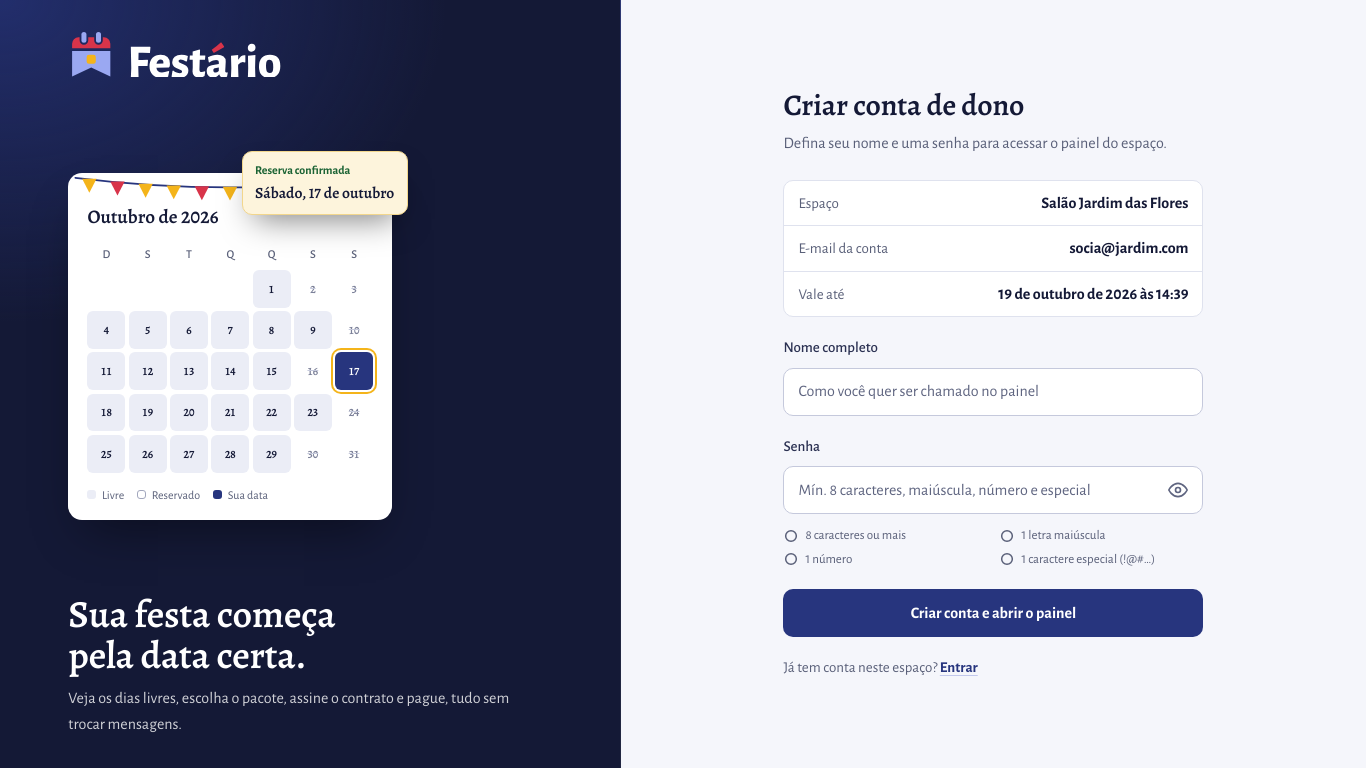
Test: InviteAccept - aceite › switches to the expired state when the API says INVITE_EXPIRED
In the field labelled "Nome completo": coordinates (993, 392) [783,368,1203,416], type "Sócia Nova"
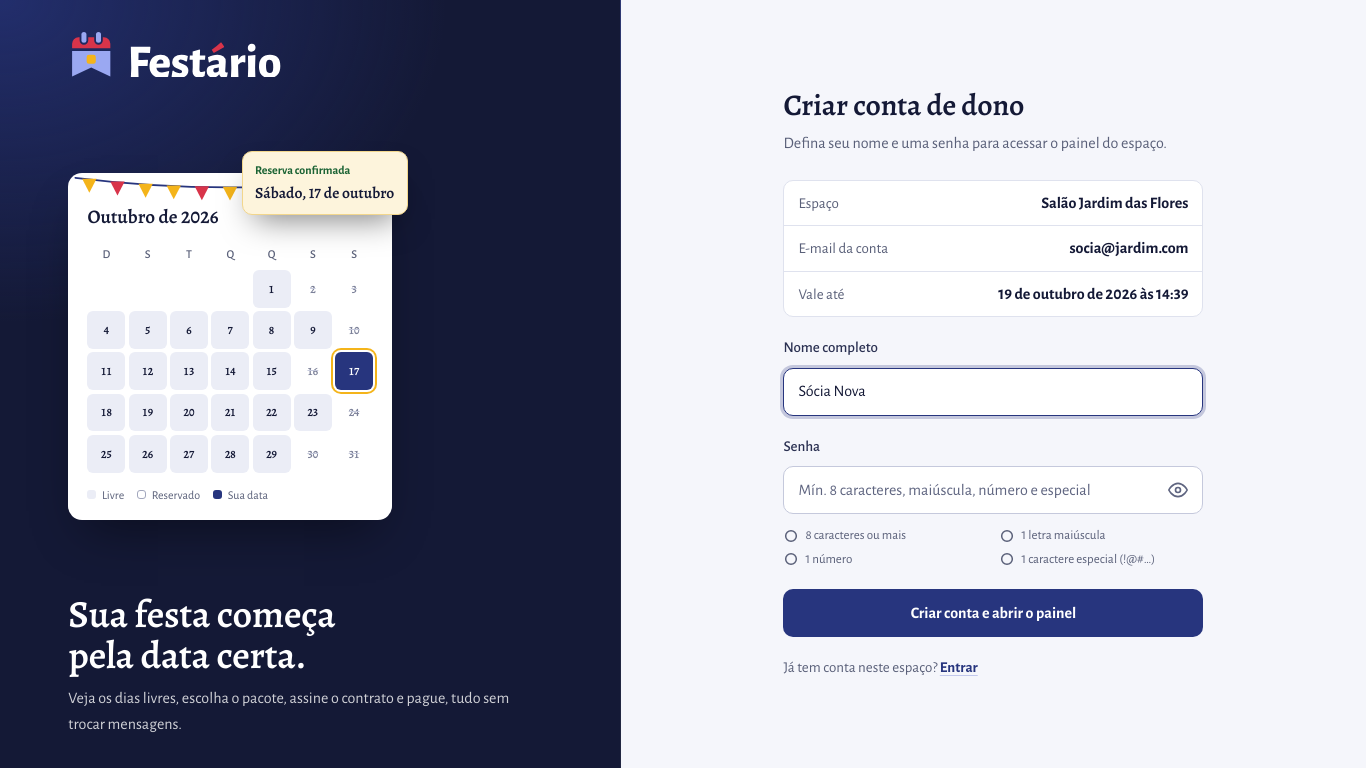
In the password field labelled "Senha": coordinates (979, 490) [798,467,1160,513], type "Senha@123"
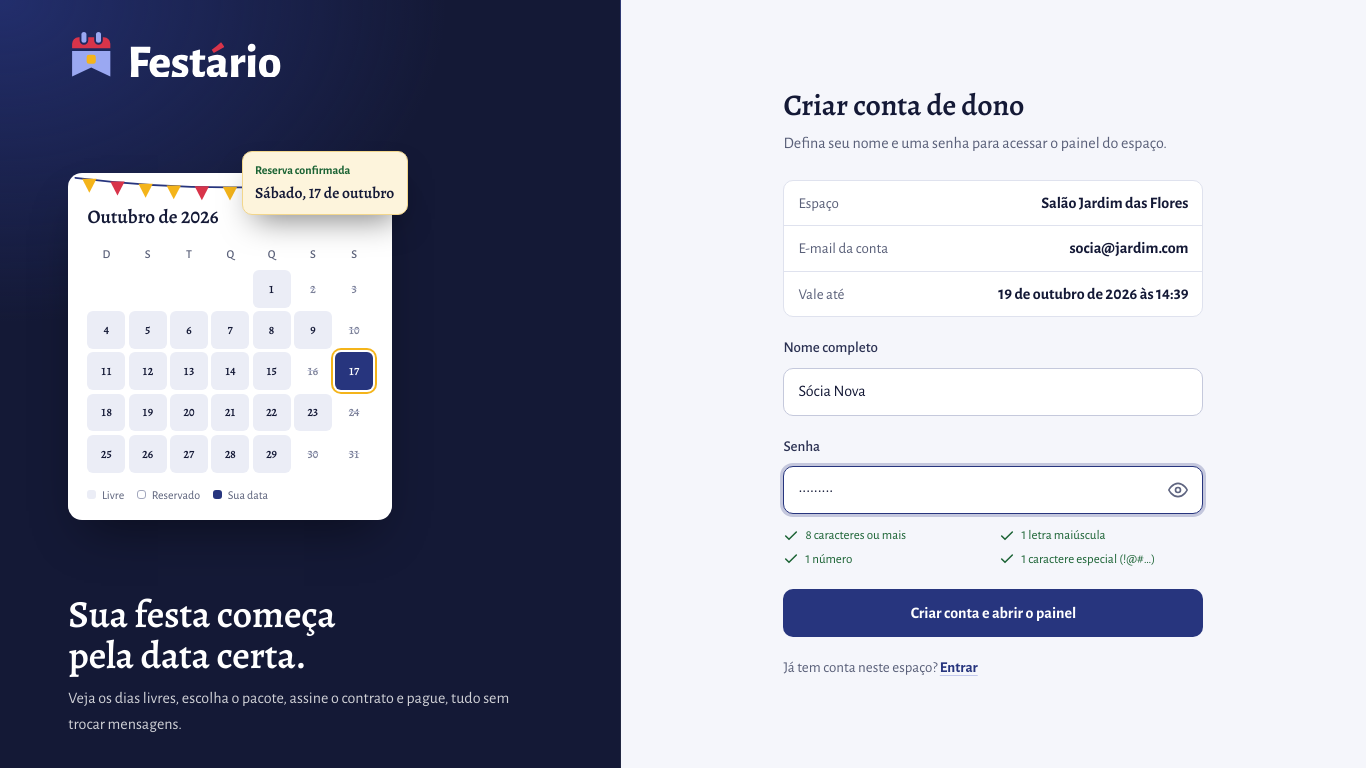
Click the button "Criar conta e abrir o painel": coordinates (993, 613) [783,589,1203,637]
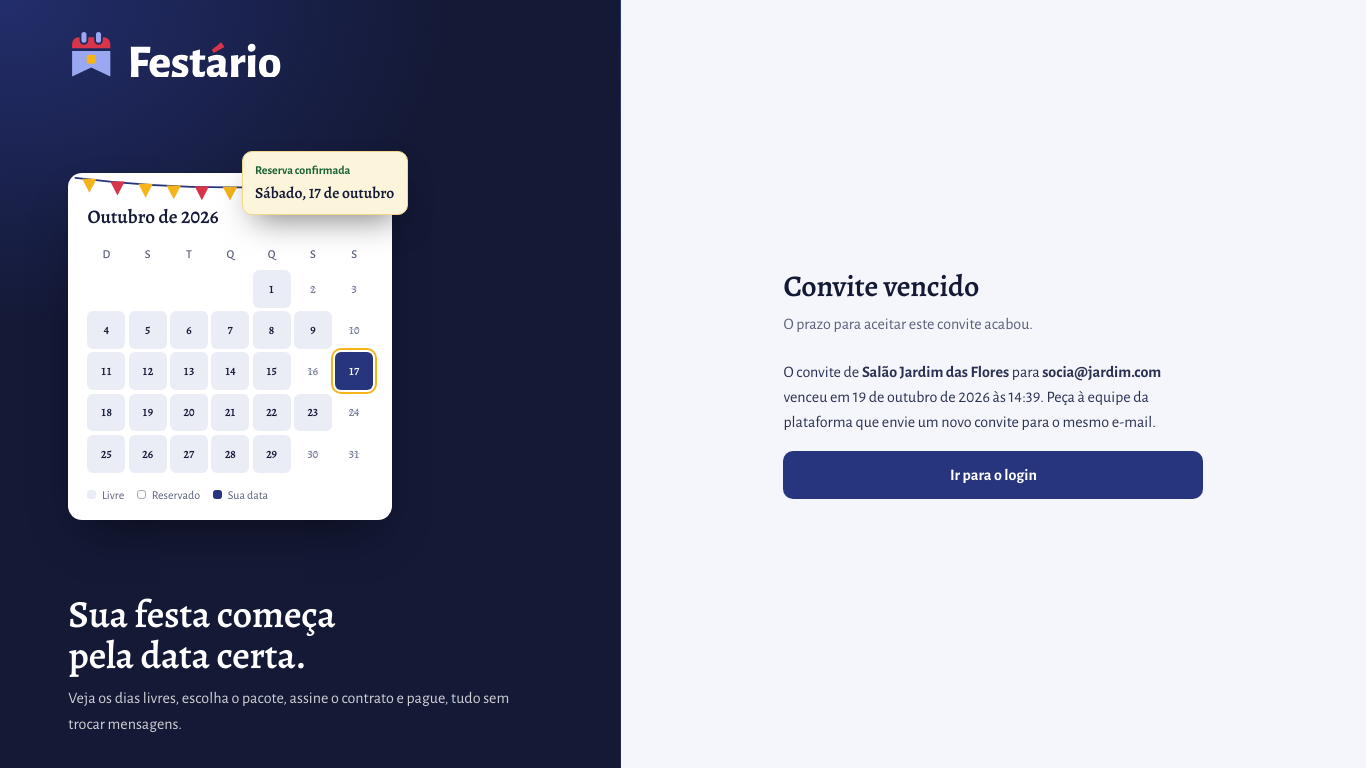
Now the heading "Convite vencido" is shown, box [783,266,979,306]
